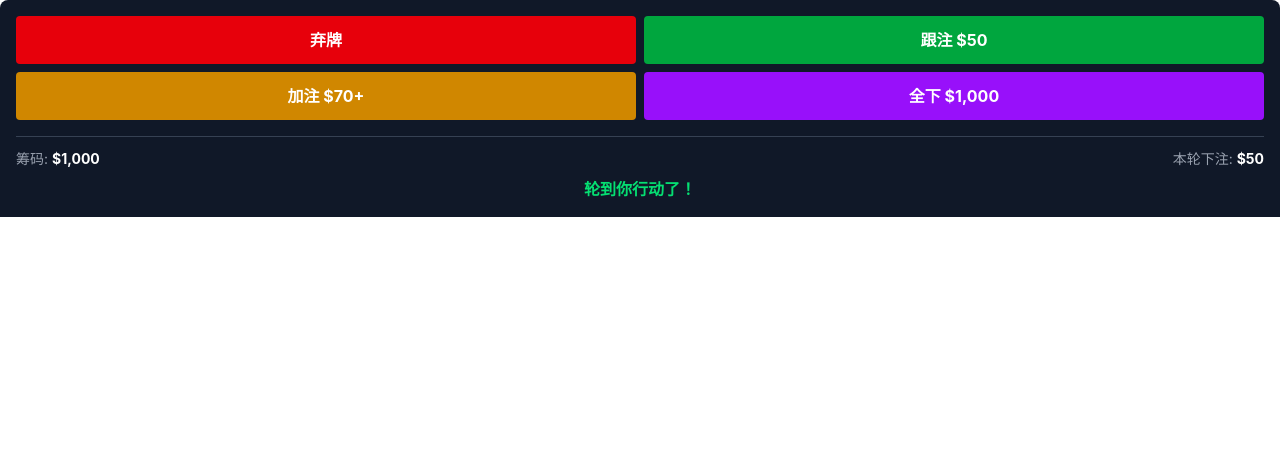
ActionPanel › should use quick raise buttons
Click the button "加注 $70+". click: {"x": 326, "y": 96}
box: [16,72,636,120]
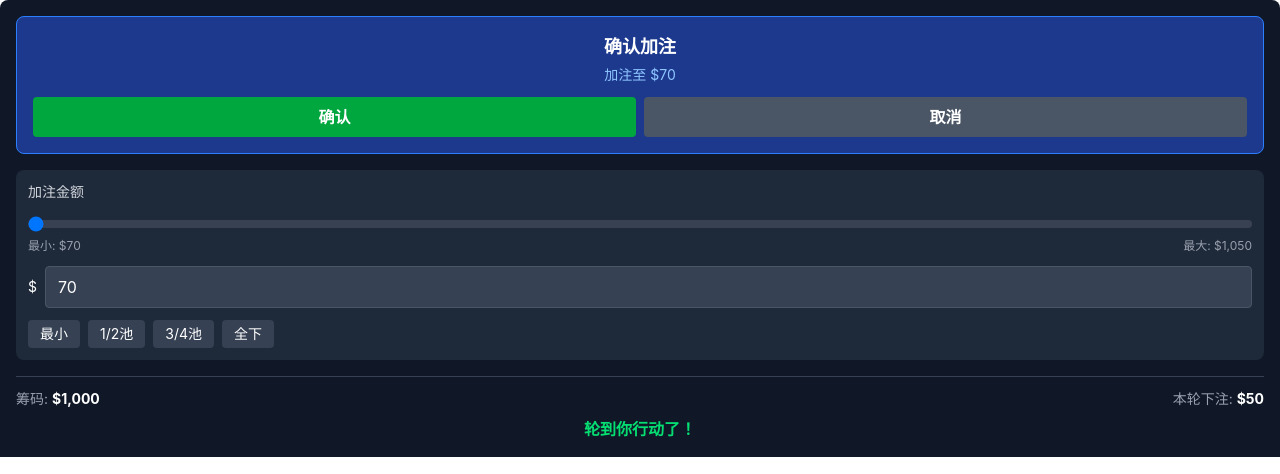
Expected: the button "最小" is shown, [28,320,80,348]
Expected: the button "1/2池" is shown
Expected: the button "3/4池" is shown, [153,320,214,348]
// Click half pot button
Click the button "1/2池". click: {"x": 117, "y": 334}
box: [88,320,145,348]
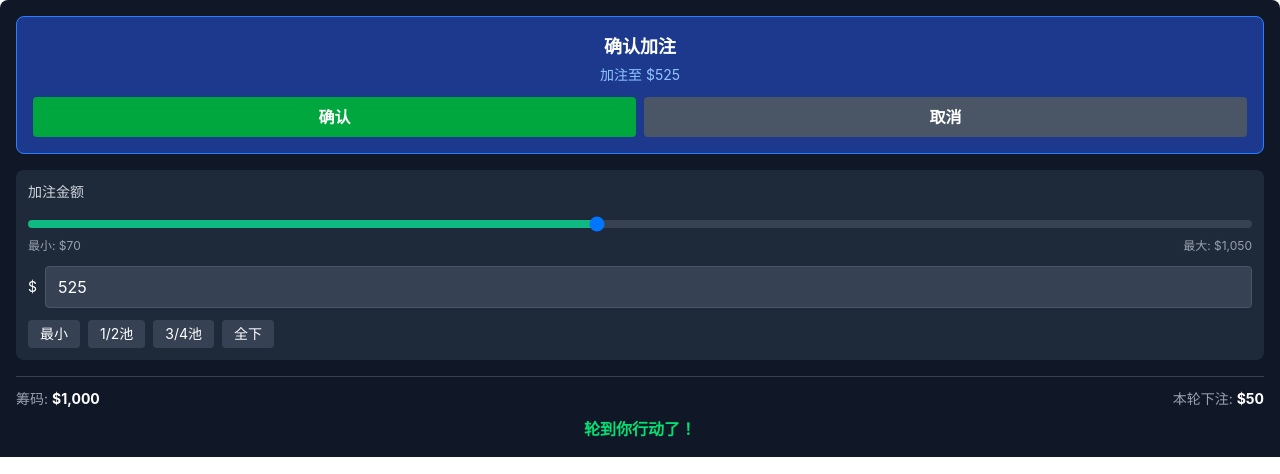
Expected: the number field holds "525", [45,266,1252,308]
